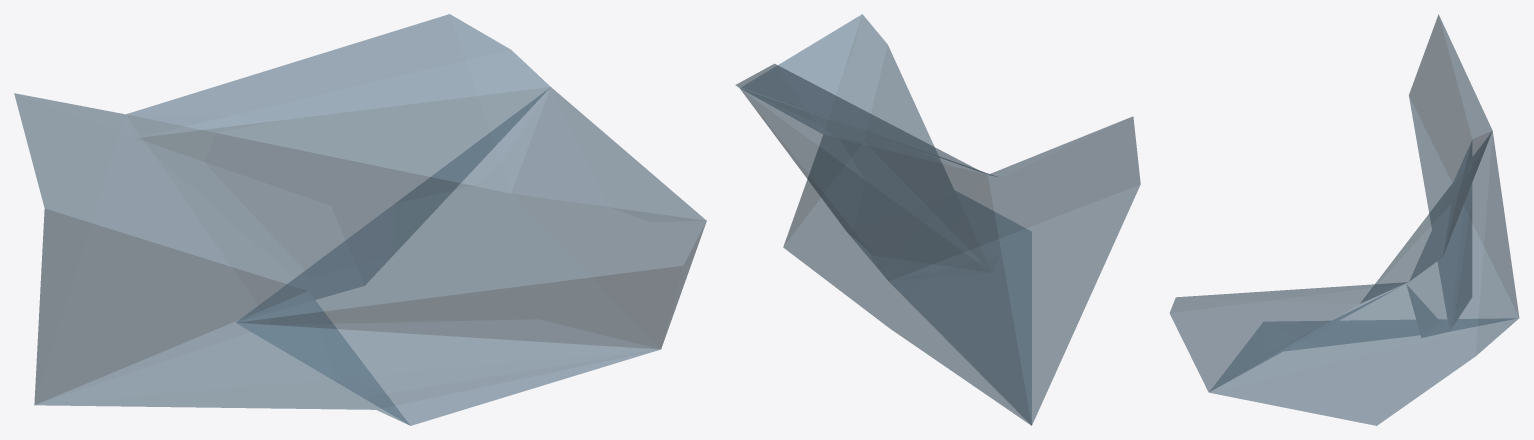
The model's file is particle6.dae.
3 views of the same model, side by side, from view 1: azimuth 30°, elevation 25°; view 2: azimuth 150°, elevation 25°; view 3: azimuth 270°, elevation 25° (orthographic). The views are drawn at different scales.
Parts seen in each view (by area): view 1: Platonic.3; view 2: Platonic.3; view 3: Platonic.3.
Boxes of the visible parts, bbox=[...] form: Platonic.3: bbox=[14, 14, 706, 425]; Platonic.3: bbox=[735, 14, 1140, 425]; Platonic.3: bbox=[1169, 14, 1519, 425].
Bounding box in the file's own units: 640 × 437 × 500.
